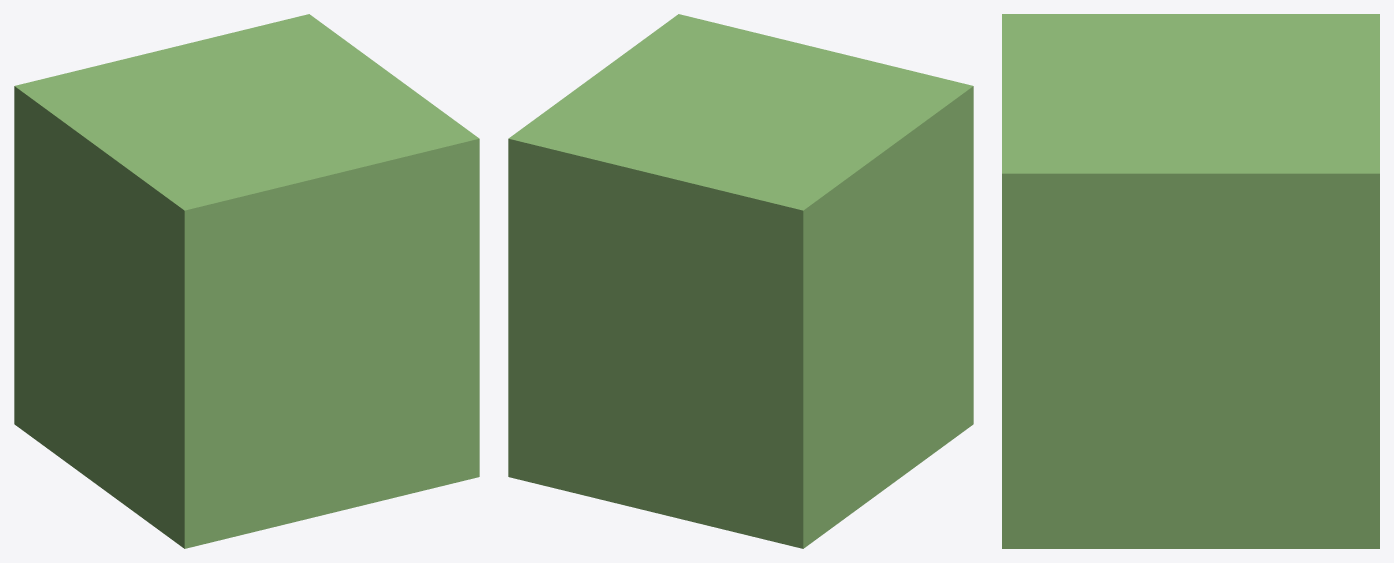
File: dino_canela.glb
3 renders of one model, left to right at view 1: azimuth 30°, elevation 25°; view 2: azimuth 150°, elevation 25°; view 3: azimuth 270°, elevation 25°, orthographic. The views are drawn at different scales.
Visible parts, largest first — view 1: dino_canela; view 2: dino_canela; view 3: dino_canela.
Part boxes in pixels (x1,y1,x2,y2): dino_canela: [14, 14, 479, 548]; dino_canela: [508, 14, 973, 548]; dino_canela: [1002, 14, 1379, 548].
Bounding box in the file's own units: 0.26 × 0.285 × 0.26.
